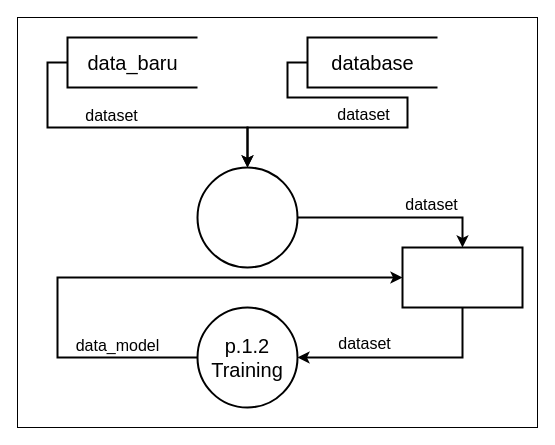
Some shapes in this 555 by 445 pixel diagram are drawn without their labels. The box of each missing label's shape, as (x1, y1, x2, y2) in pixels:
API Model: (401, 246, 523, 308)
p.1.1 Collect Data: (196, 166, 298, 268)
